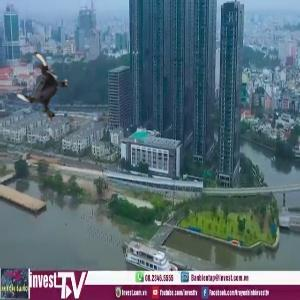drone: (14, 57, 77, 120)
